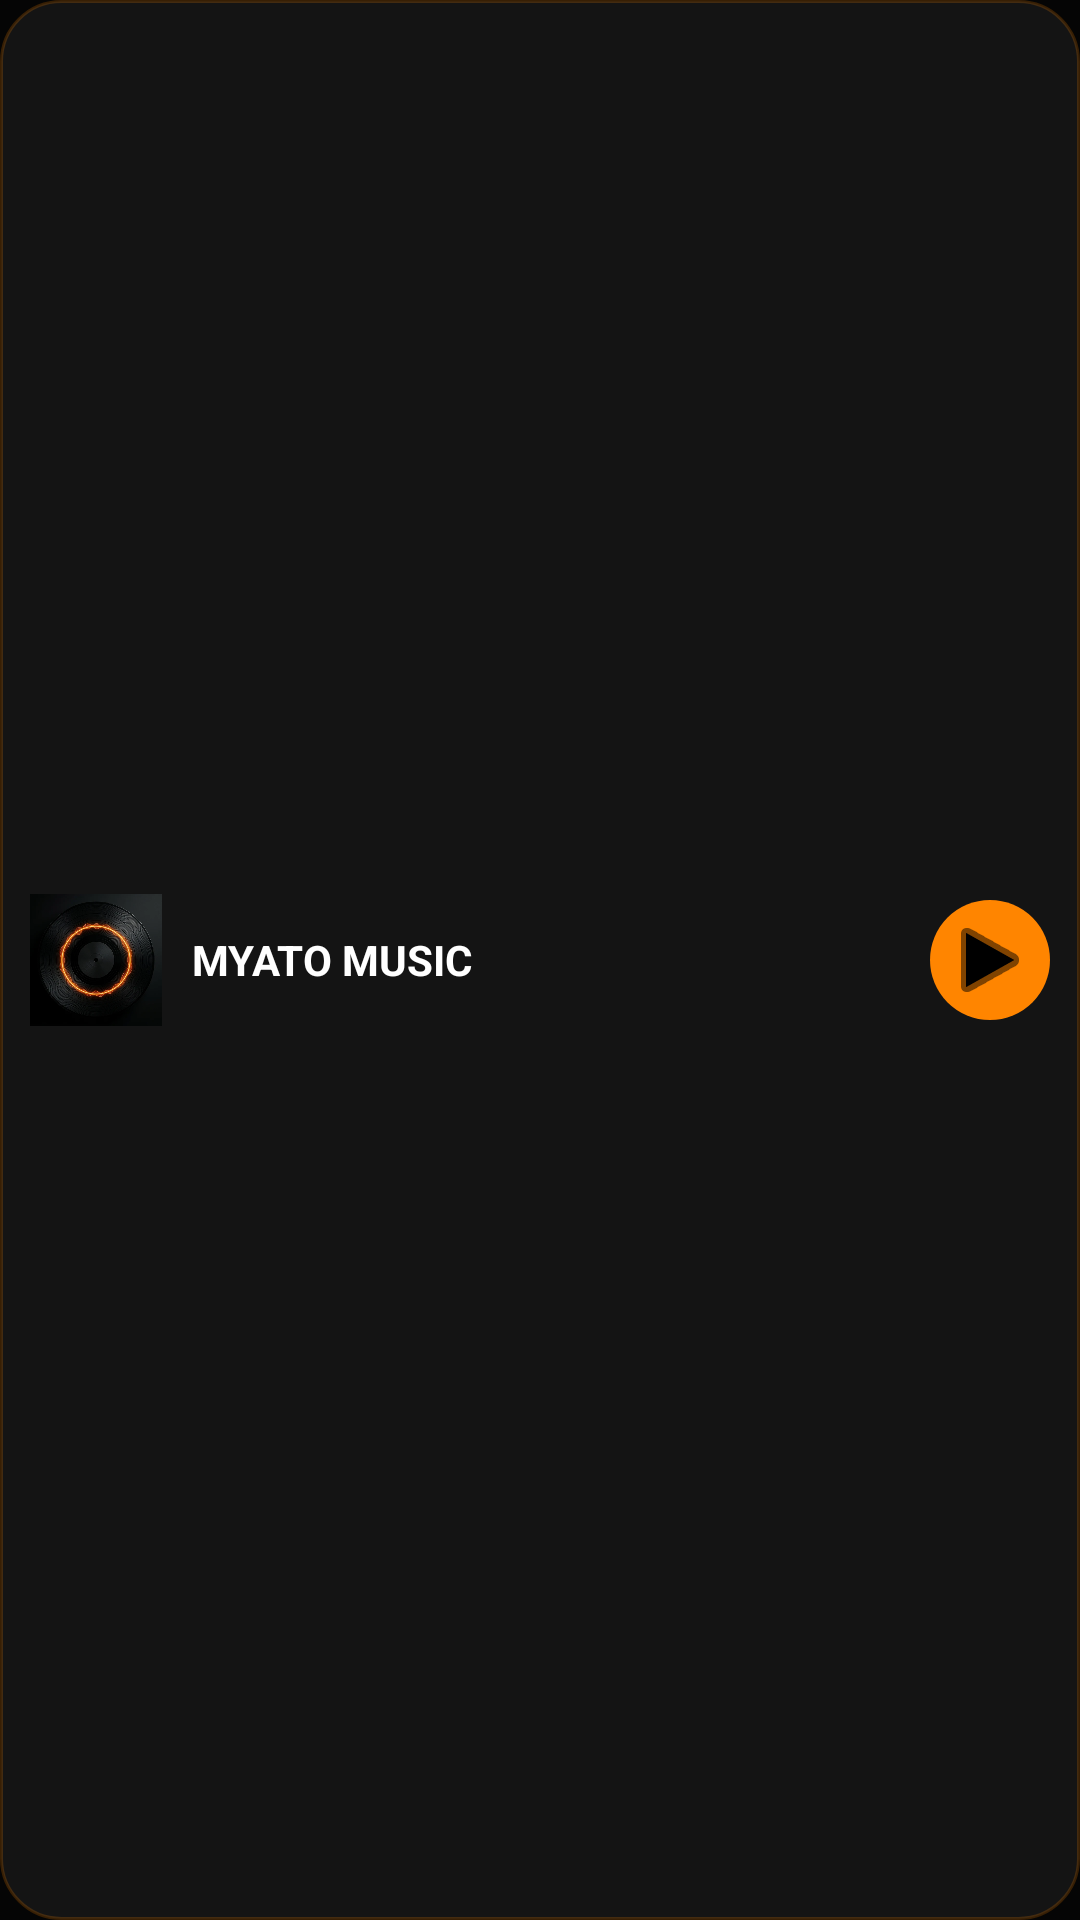

Locate icon controls on the screen. Image size 1080px x 1920px, boxes as [x1=x1, y1=y1, x2=x2, y2=y2].
Capa do álbum: [x1=30, y1=894, x2=162, y2=1026]
Reproduzir ou pausar: [x1=930, y1=900, x2=1050, y2=1020]
